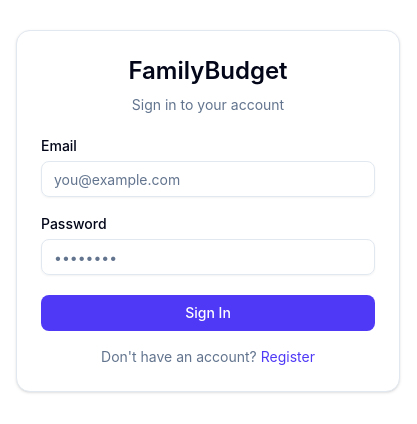
Test: LoginPage › shows validation error when password is empty
Type "user@example.com" into the field labelled "Email" at (208, 179), box [41,161,375,197]
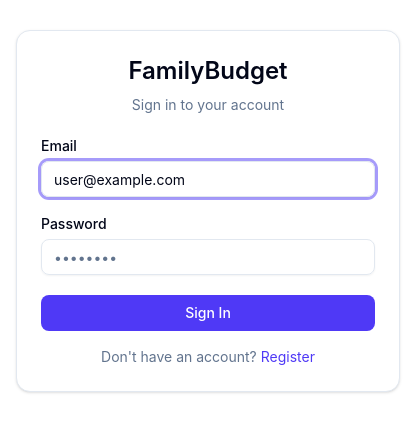
Click the button "Sign In" at (208, 313), box [41,295,375,331]
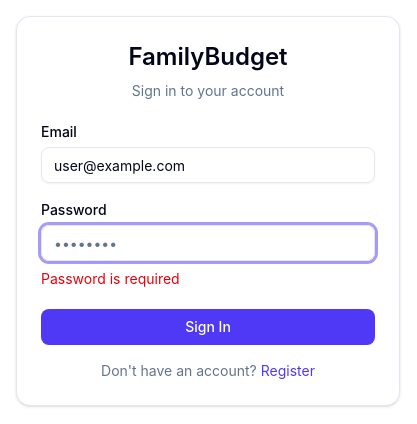
Check: the text "Password is required" is shown, box [41,270,180,287]
